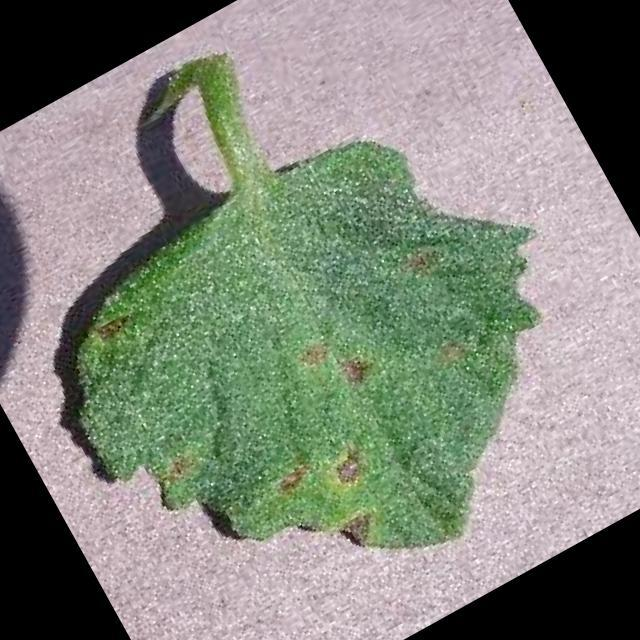Tomato Septoria spot leaf: (15, 72, 640, 640)
